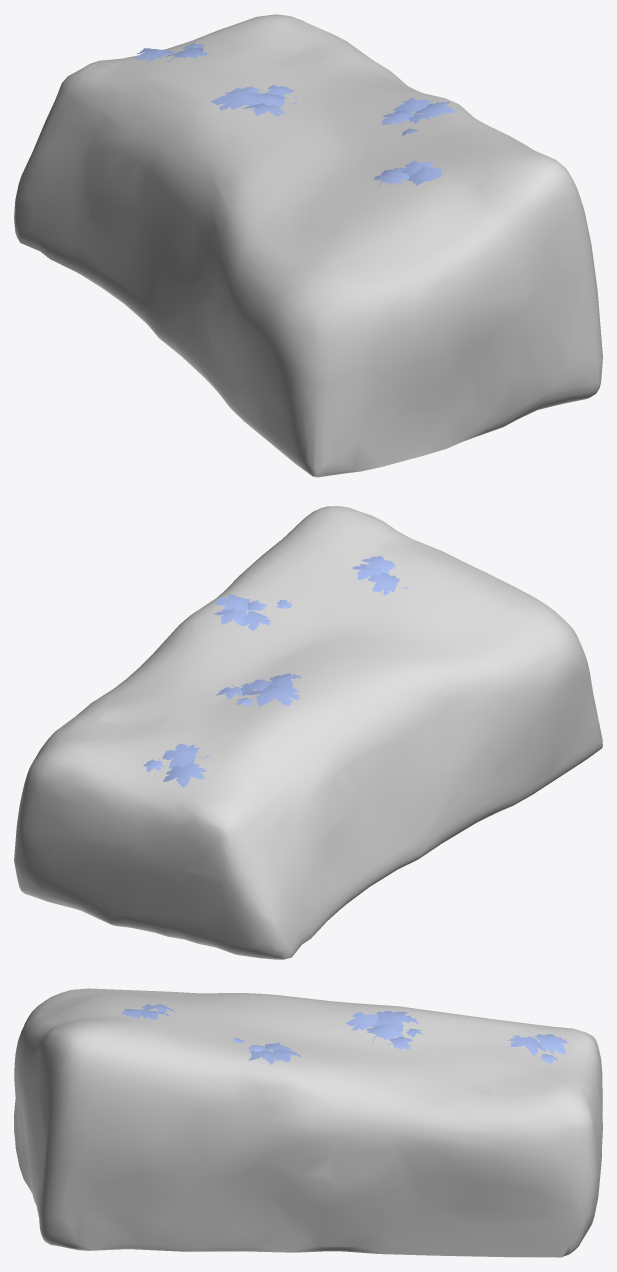
Rendered from Pedra Deitada 4.fbx.
The picture shows the model from 3 angles, top to bottom: view 1: azimuth 30°, elevation 25°; view 2: azimuth 150°, elevation 25°; view 3: azimuth 270°, elevation 25°; orthographic projection. The views are drawn at different scales.
Parts seen in each view (by area): view 1: Pedra 4.001, Folha 1 Azul2.131; view 2: Pedra 4.001, Folha 1 Azul2.131, Folha 1 Azul2.137, Folha 1 Azul2.136; view 3: Pedra 4.001, Folha 1 Azul2.131, Folha 1 Azul2.136, Folha 1 Azul2.137, Folha 1 Azul2.135, Folha 1 Azul2.132.
Boxes of the visible parts, x1,y1,x2,y2 form: Pedra 4.001: (14,14,602,477); Folha 1 Azul2.131: (210,87,266,110); Pedra 4.001: (14,506,602,959); Folha 1 Azul2.131: (246,683,299,706); Folha 1 Azul2.137: (162,743,208,768); Folha 1 Azul2.136: (163,763,207,787); Pedra 4.001: (14,988,602,1257); Folha 1 Azul2.131: (374,1010,418,1033); Folha 1 Azul2.136: (534,1034,568,1054); Folha 1 Azul2.137: (508,1032,545,1055); Folha 1 Azul2.135: (346,1011,377,1030); Folha 1 Azul2.132: (366,1024,403,1042).
Bounding box in the file's own units: 311 × 206 × 542.
